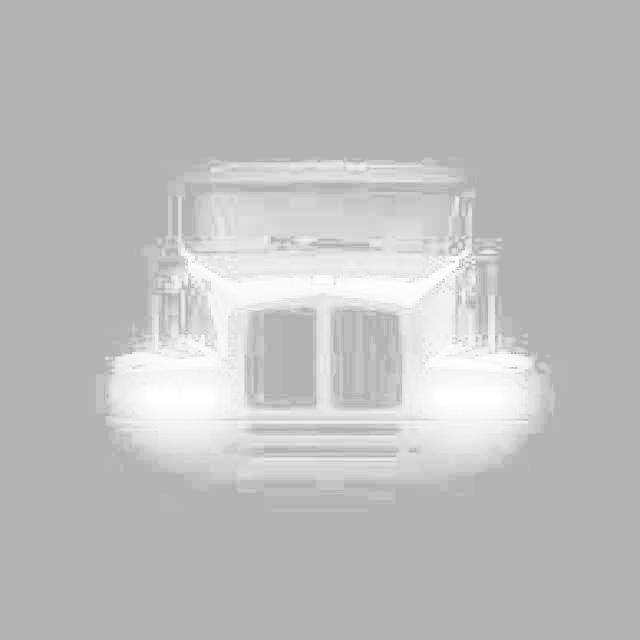Truck: (103, 158, 545, 495)
